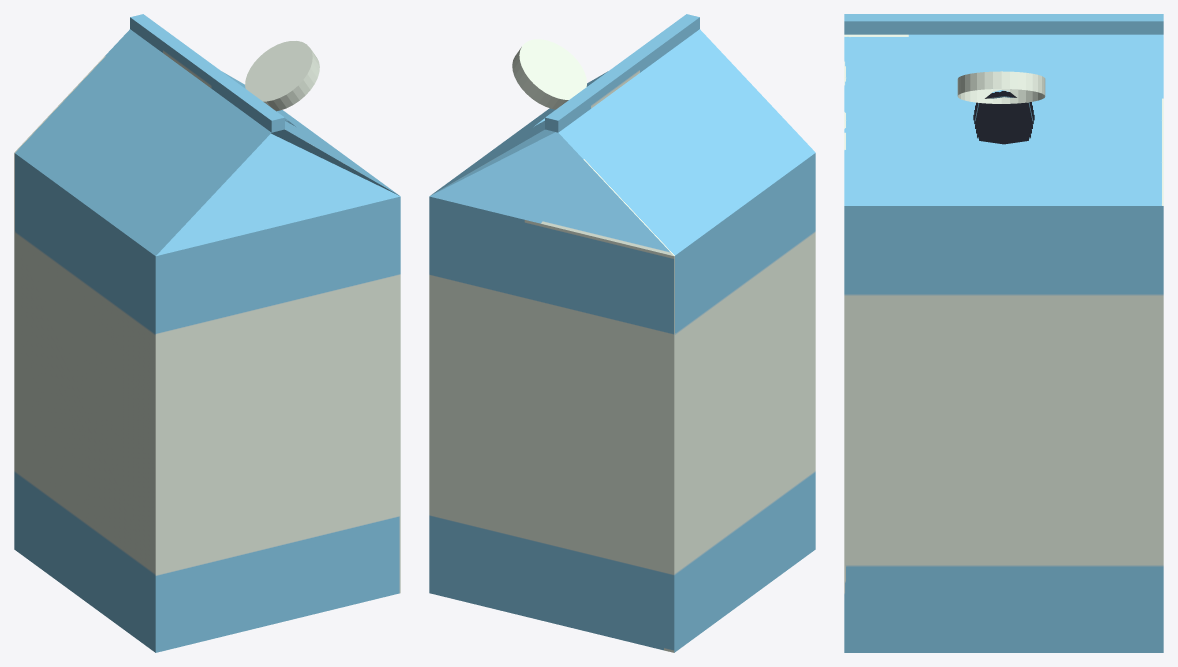
Rendered from milk.glb.
3 renders of one model, left to right at view 1: azimuth 30°, elevation 25°; view 2: azimuth 150°, elevation 25°; view 3: azimuth 270°, elevation 25°, orthographic. The views are drawn at different scales.
Visible parts, largest first — view 1: Cube; view 2: Cube; view 3: Cube.
Boxes of the visible parts, left/top/right/bottom form: Cube: left=14, top=14, right=400, bottom=652; Cube: left=429, top=14, right=815, bottom=652; Cube: left=844, top=14, right=1163, bottom=652.
Size of the model in its own units: 2 by 3.93 by 2.
Materials: 1 (1 with a texture image).
